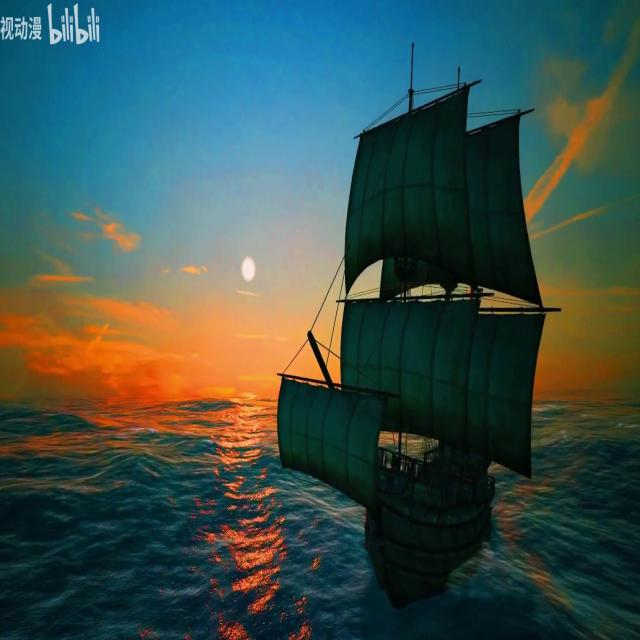sailboat: (275, 38, 551, 597)
